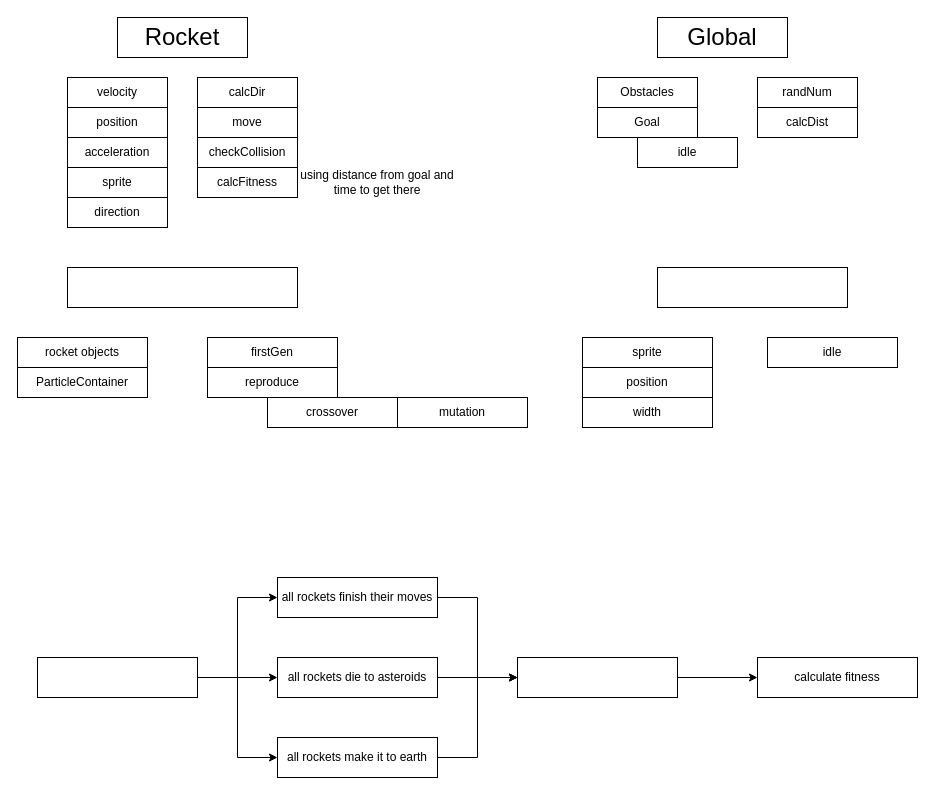
The diagram is 935 pixels wide and 795 high, and some of its shapes have lost their labels. Each missing label, with the centre of its shape:
all rockets are "dead": (x=597, y=677)
create first generation: (x=117, y=677)
FloatingObject: (x=752, y=287)
Population: (x=182, y=287)
